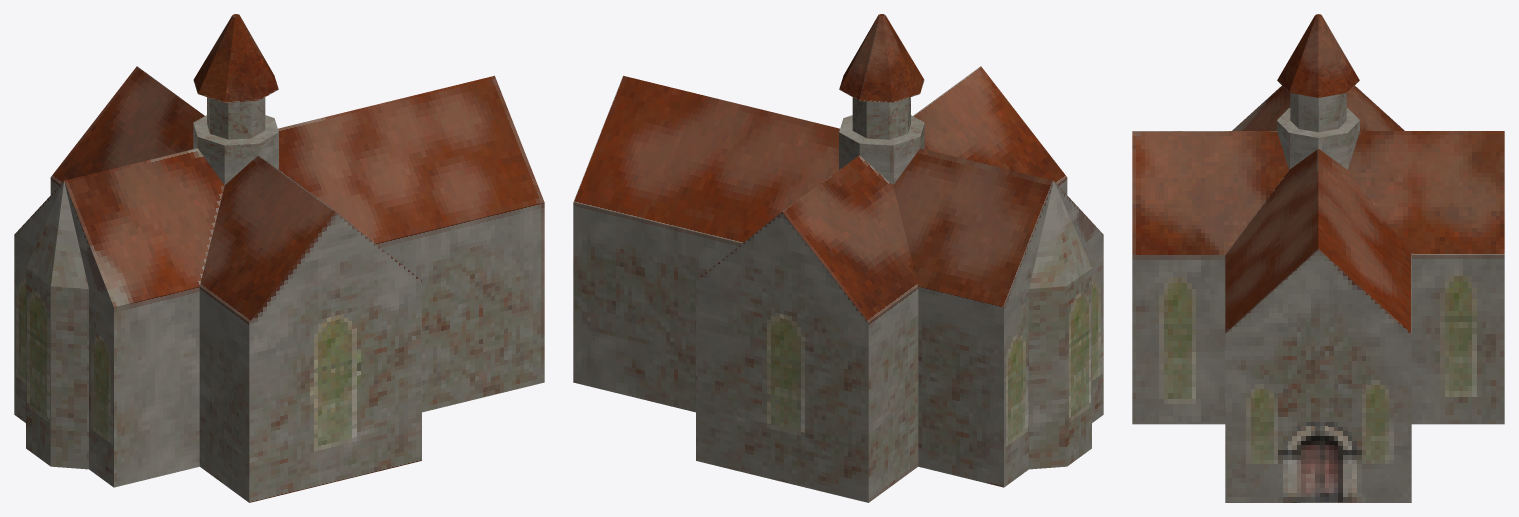
Rendered from church-psx.glb.
The picture shows the model from 3 angles, left to right: view 1: azimuth 30°, elevation 25°; view 2: azimuth 150°, elevation 25°; view 3: azimuth 270°, elevation 25°; orthographic projection. The views are drawn at different scales.
Visible parts, largest first — view 1: Church; view 2: Church; view 3: Church.
Part boxes in pixels (<box>): Church: <box>14,14,544,502</box>; Church: <box>573,14,1103,502</box>; Church: <box>1132,14,1504,502</box>.
Bounding box in the file's own units: 5.3 × 4.37 × 3.99.
Materials: 1 (1 with a texture image).
